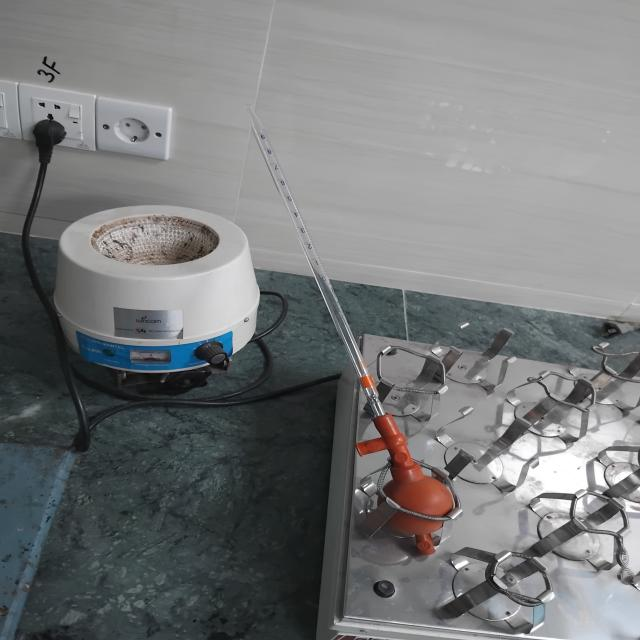Volumetric_Pipet: (196, 80, 492, 570)
